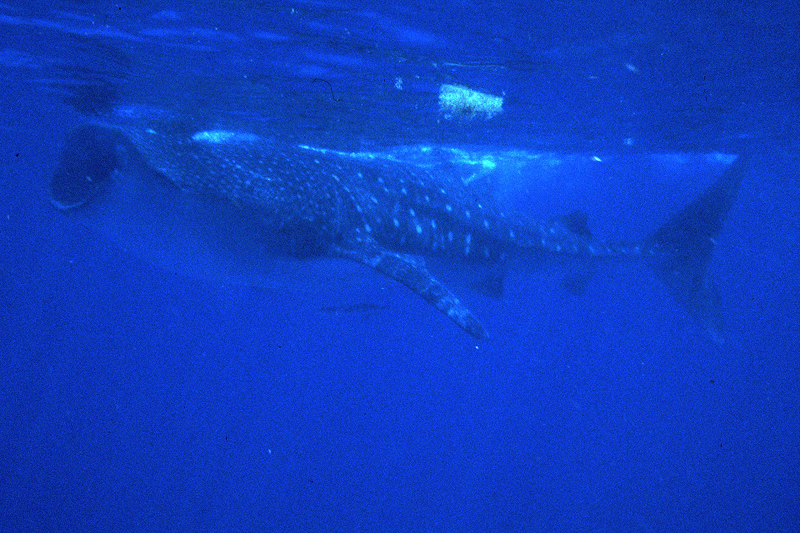Rhincodon_typusw: (55, 106, 771, 363)
